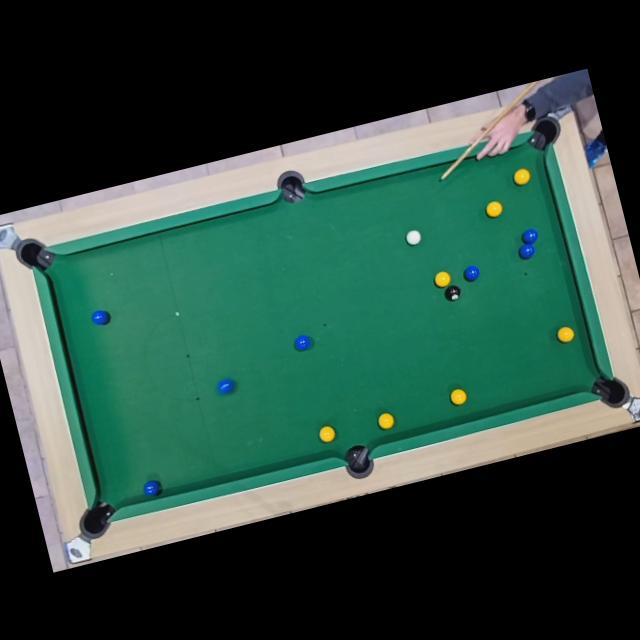Ball: (292, 332, 314, 353), (90, 308, 112, 328), (512, 167, 532, 187), (484, 198, 504, 218), (556, 324, 576, 344), (448, 386, 468, 406), (142, 479, 162, 498), (520, 226, 540, 245), (317, 424, 336, 444), (216, 376, 234, 396), (377, 410, 395, 430), (462, 264, 481, 282), (517, 242, 536, 260), (433, 270, 452, 288), (404, 228, 422, 246), (444, 284, 461, 302)
